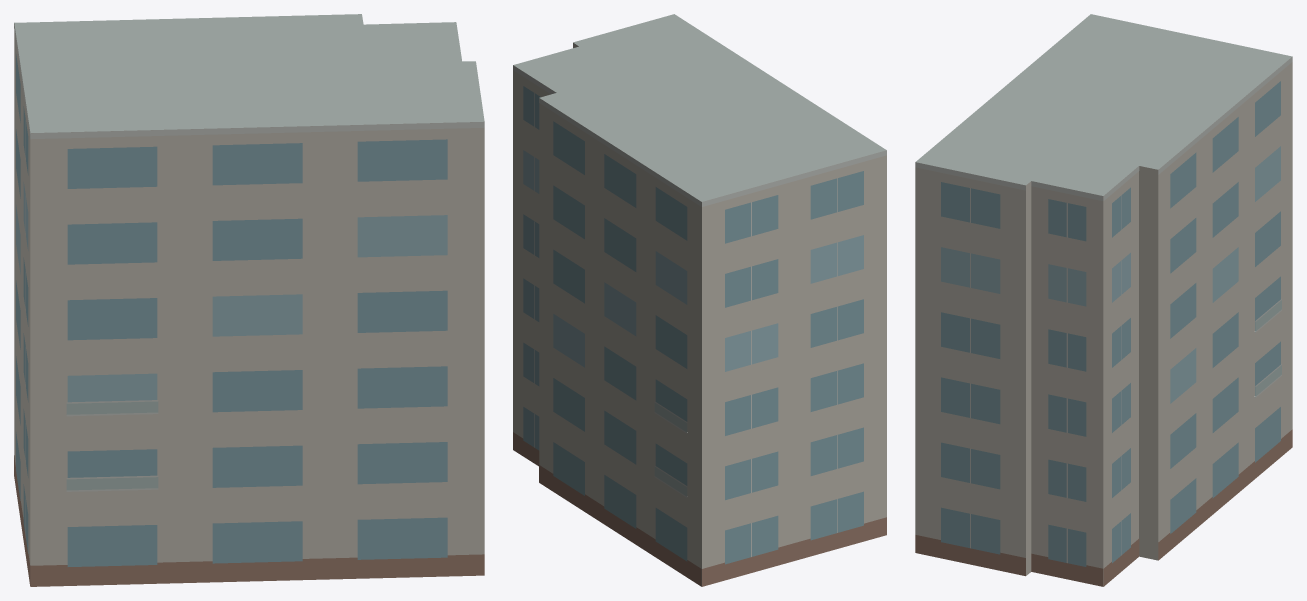
Rendered from survey-upis-32842777.glb.
The picture shows the model from 3 angles, left to right: view 1: azimuth 30°, elevation 25°; view 2: azimuth 150°, elevation 25°; view 3: azimuth 270°, elevation 25°; orthographic projection. The views are drawn at different scales.
Visible parts, largest first — view 1: survey-upis-32842777.tmp; view 2: survey-upis-32842777.tmp; view 3: survey-upis-32842777.tmp.
Part boxes in pixels (left/top/right/bottom): survey-upis-32842777.tmp: left=14, top=14, right=484, bottom=586; survey-upis-32842777.tmp: left=513, top=14, right=886, bottom=586; survey-upis-32842777.tmp: left=915, top=14, right=1292, bottom=586.
Size of the model in its own units: 18.3 by 18.3 by 16.02.
